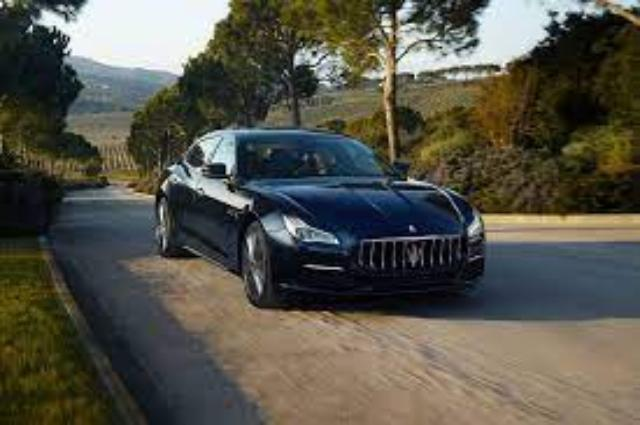maserati: (155, 127, 487, 307)
